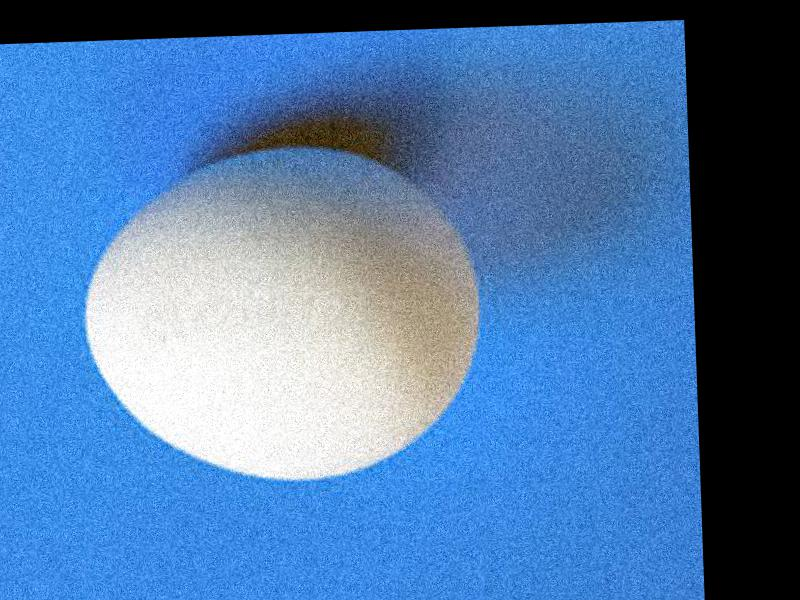Eggs: (75, 138, 488, 486)
